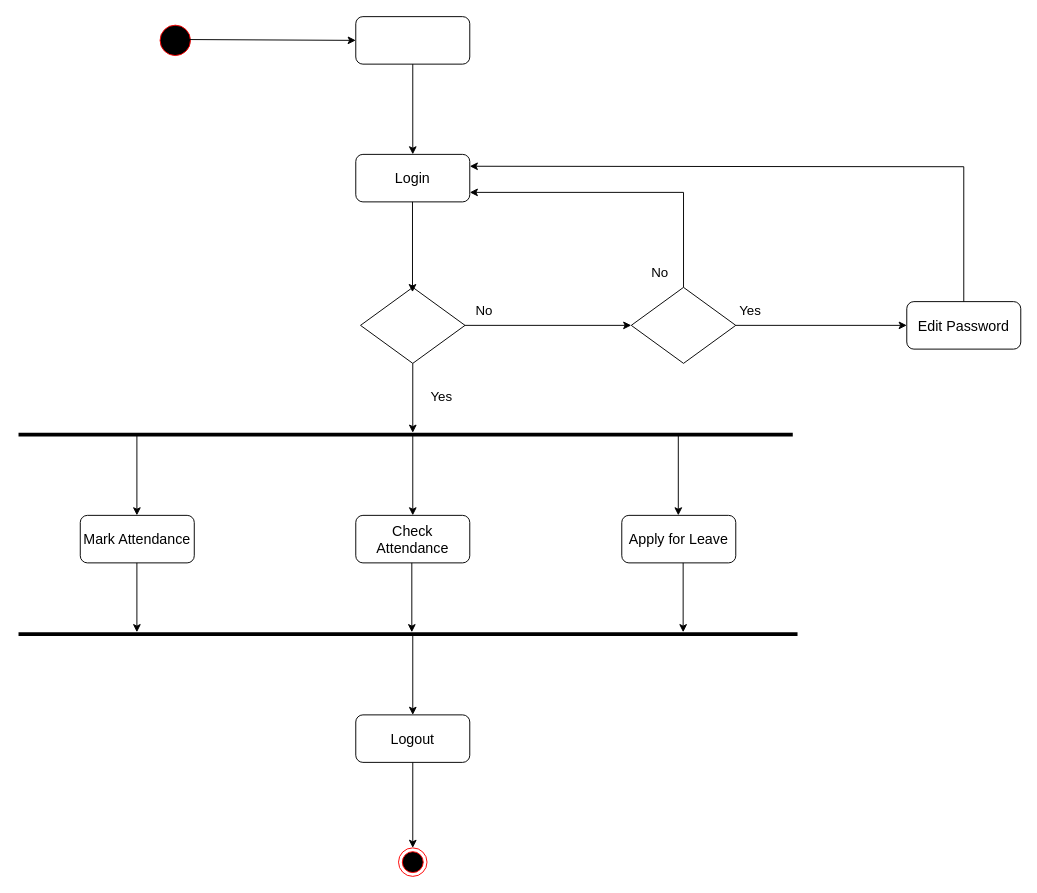
Some shapes in this 1037 by 893 pixel diagram are drawn without their labels. The shapes that lost their labels are listed below. From the top down, each one's centre as x and y in pixels, then its label:
At point 412,40: "Sign Up".
At point 412,324: "Valid Login".
At point 683,324: "forgot Password".
